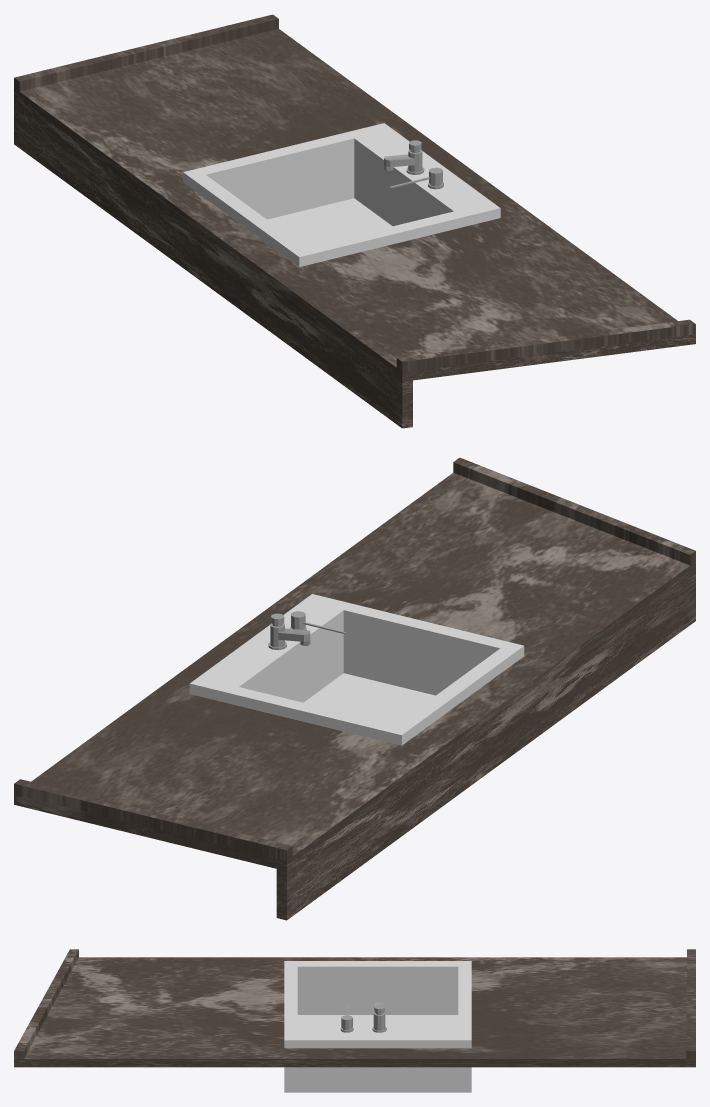
Rendered from pia fotografia.fbx.
The picture shows the model from 3 angles, top to bottom: view 1: azimuth 30°, elevation 25°; view 2: azimuth 150°, elevation 25°; view 3: azimuth 270°, elevation 25°; orthographic projection. The views are drawn at different scales.
Parts seen in each view (by area): view 1: pia maior, pia menor, torneira agua; view 2: pia maior, pia menor, torneira agua; view 3: pia maior, pia menor, torneira agua.
Part boxes in pixels (<box>): pia maior: <box>14,14,695,428</box>; pia menor: <box>183,123,500,266</box>; torneira agua: <box>384,140,424,174</box>; pia maior: <box>14,457,695,920</box>; pia menor: <box>189,594,524,745</box>; torneira agua: <box>268,613,310,650</box>; pia maior: <box>14,949,695,1067</box>; pia menor: <box>284,961,471,1092</box>; torneira agua: <box>372,1002,386,1032</box>.
Bounding box in the file's own units: 0.541 × 0.1896 × 1.53.
Materials: 3 (1 with a texture image).
